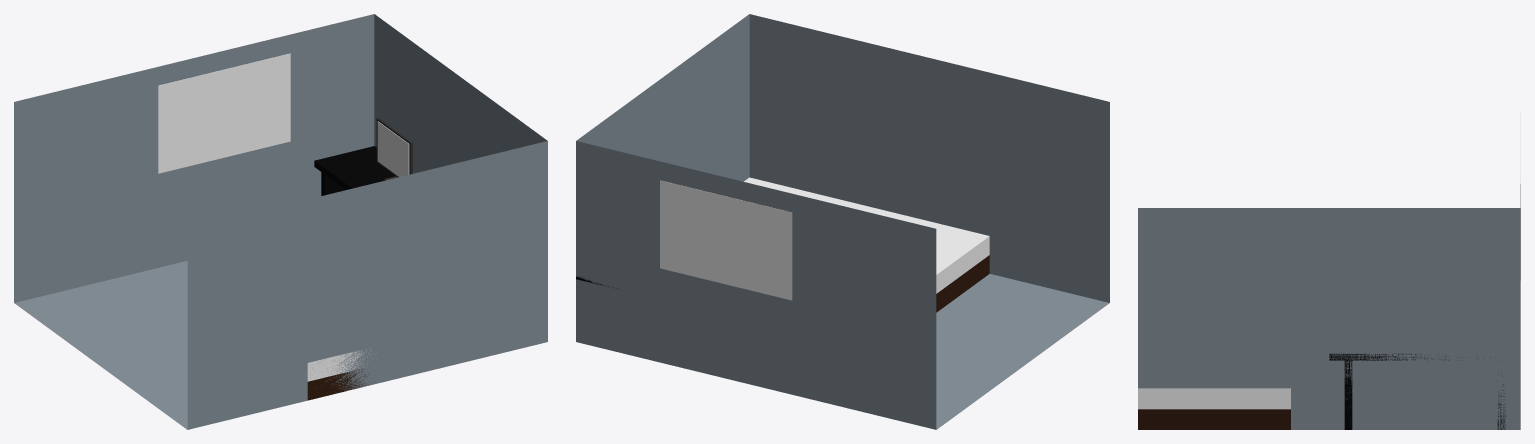
The model's file is interactive-room.glb.
3 views of the same model, side by side, from view 1: azimuth 30°, elevation 25°; view 2: azimuth 150°, elevation 25°; view 3: azimuth 270°, elevation 25° (orthographic). The views are drawn at different scales.
Visible parts, largest first — view 1: right-wall, left-wall, floor, front-wall, whiteboard, tabletop, display, bed, bed-frame; view 2: right-wall, left-wall, front-wall, floor, whiteboard, bed, bed-frame; view 3: front-wall, bed, bed-frame, right-leg, tabletop.
Boxes of the visible parts, x1,y1,x2,y2 form: right-wall: (187,141,547,429); left-wall: (14,14,374,302); floor: (14,261,187,429); front-wall: (374,14,547,173); whiteboard: (158,53,290,173); tabletop: (314,146,395,189); display: (377,121,409,176); bed: (307,348,374,381); bed-frame: (307,369,375,400); right-wall: (749,14,1109,302); left-wall: (576,141,936,429); front-wall: (576,14,749,181); floor: (936,274,1109,429); whiteboard: (660,180,792,300); bed: (744,177,989,293); bed-frame: (936,255,989,312); front-wall: (1138,208,1520,429); bed: (1138,388,1290,409); bed-frame: (1138,409,1290,429); right-leg: (1344,360,1352,429); tabletop: (1329,353,1462,360).
Bounding box in the file's own units: 12 × 6.4 × 10.01.
